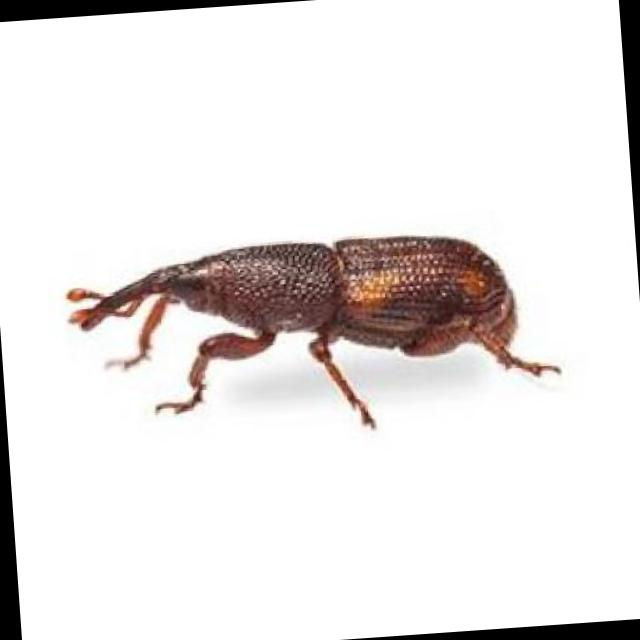rice-bug: (66, 209, 554, 426)
